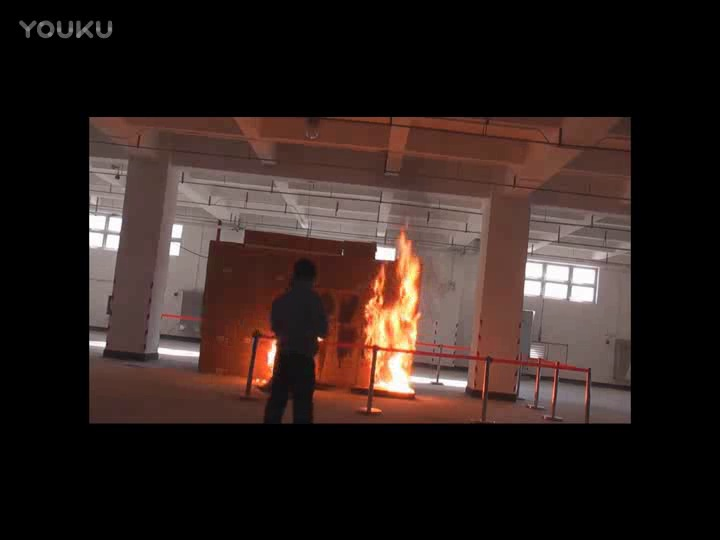fire: (371, 230, 420, 393)
